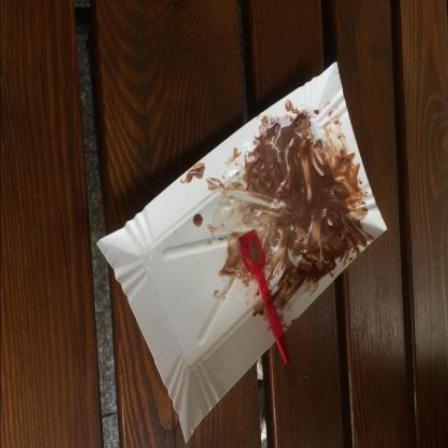Carton: (97, 62, 388, 445)
Other litter: (239, 230, 292, 366)
